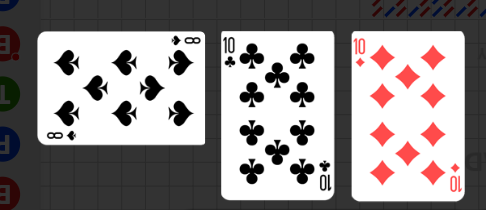10C: (223, 35, 238, 70)
10D: (449, 161, 462, 193)
8S: (46, 129, 79, 142)
